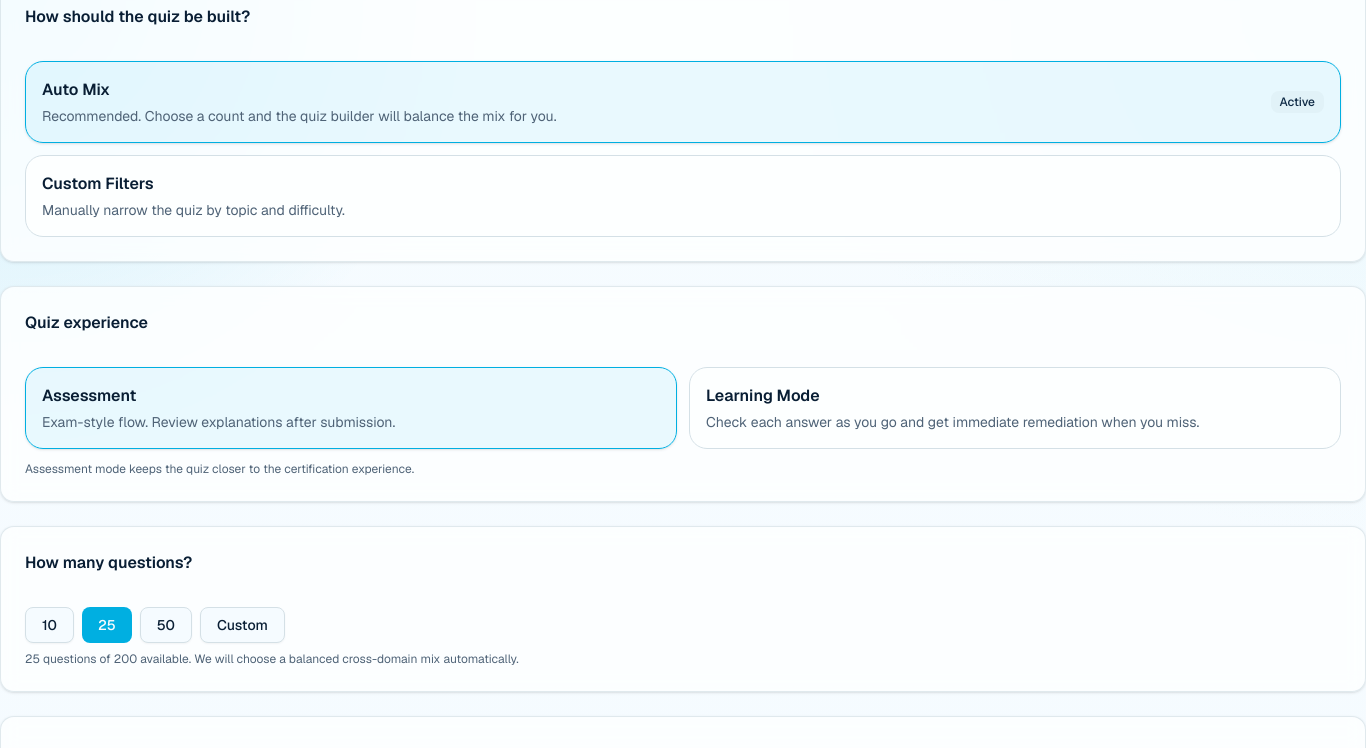
Test case: QuizConfigForm › shows topic pills after switching to Custom Filters and receiving topics
The image size is (1366, 748).
Click the button "Custom Filters": (98, 184) [25,155,1341,237]
(page scrolled)
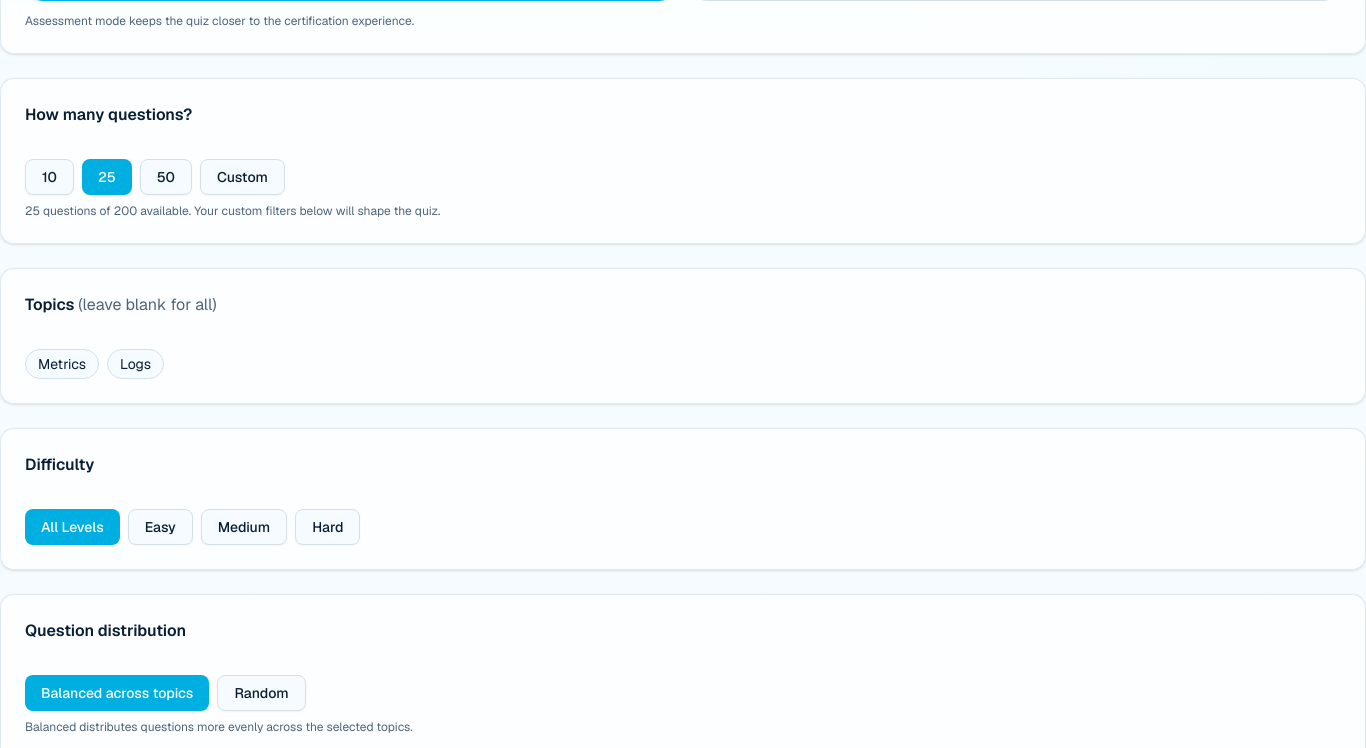
Result: the button "Metrics" is shown at [25,349,99,379]
Result: the button "Logs" is shown at [107,349,164,379]
